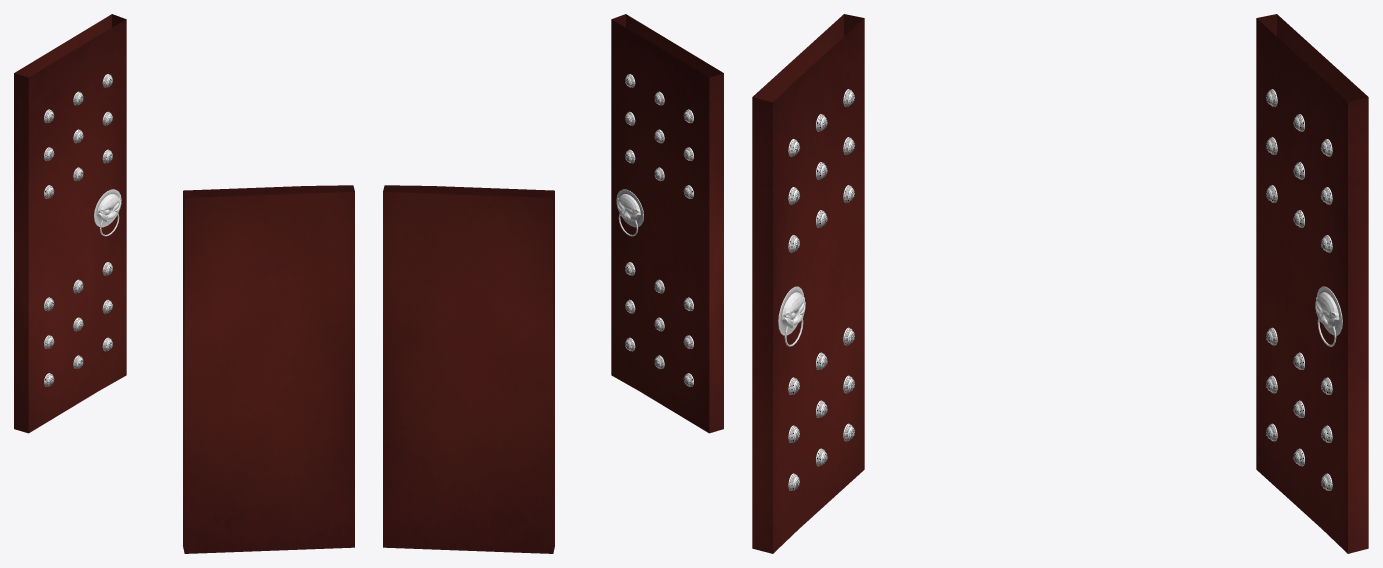
The picture shows the model from 3 angles, left to right: view 1: azimuth 30°, elevation 25°; view 2: azimuth 150°, elevation 25°; view 3: azimuth 270°, elevation 25°; orthographic projection. The views are drawn at different scales.
Parts seen in each view (by area): view 1: Object450; view 2: Object450; view 3: Object450.
Part boxes in pixels (box(x1,y1,x2,y2)): Object450: box(14, 14, 354, 553); Object450: box(383, 14, 723, 553); Object450: box(752, 14, 1368, 553).
Bounding box in the file's own units: 93.93 × 228 × 281.
Materials: 4 (4 with a texture image).
